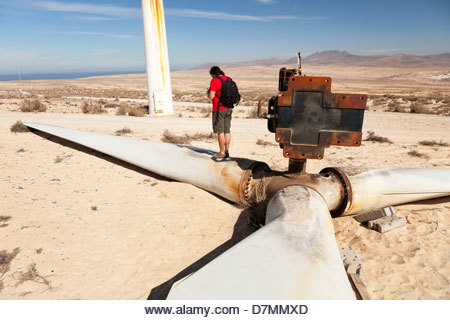faulty: (241, 52, 387, 220)
